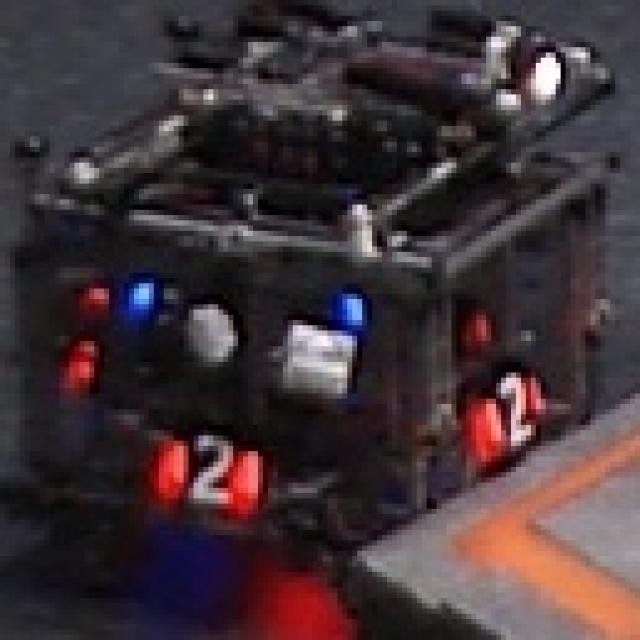R2: (159, 430, 258, 514), (481, 367, 546, 451)
